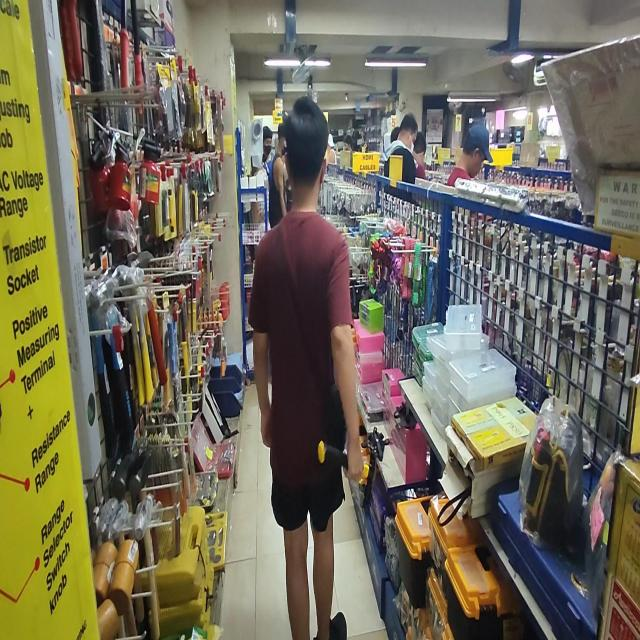hammer: (318, 440, 375, 508)
